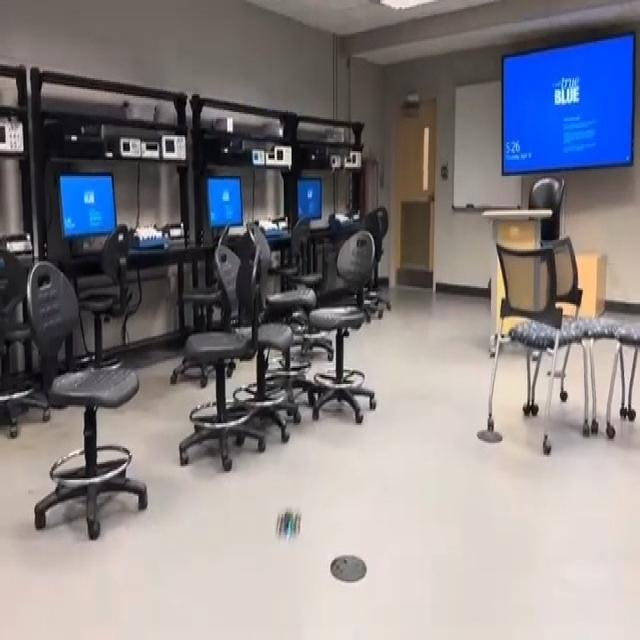drone: (267, 496, 306, 545)
